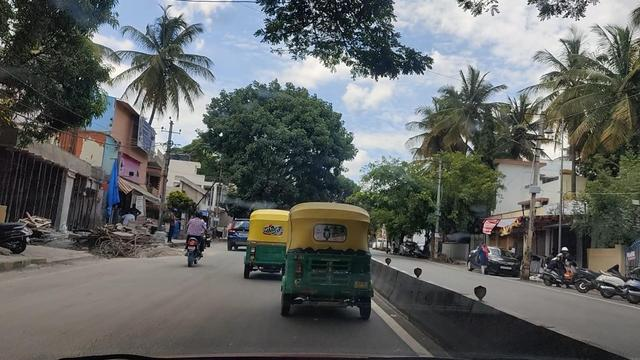LMV: (282, 194, 376, 320), (249, 216, 288, 270), (179, 208, 210, 270)
RoadDamages: (66, 315, 221, 355)
